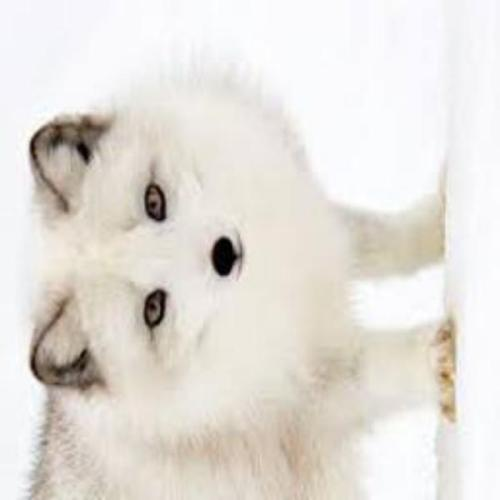arctic_fox-endangered: (32, 97, 447, 500)
